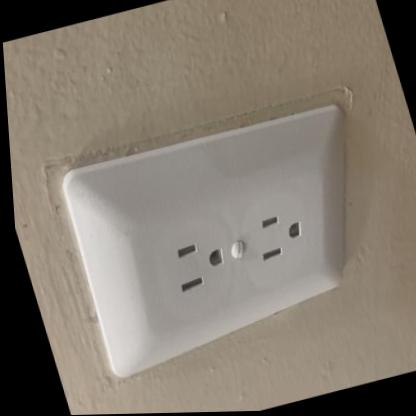OUTLET: (45, 91, 407, 382)
